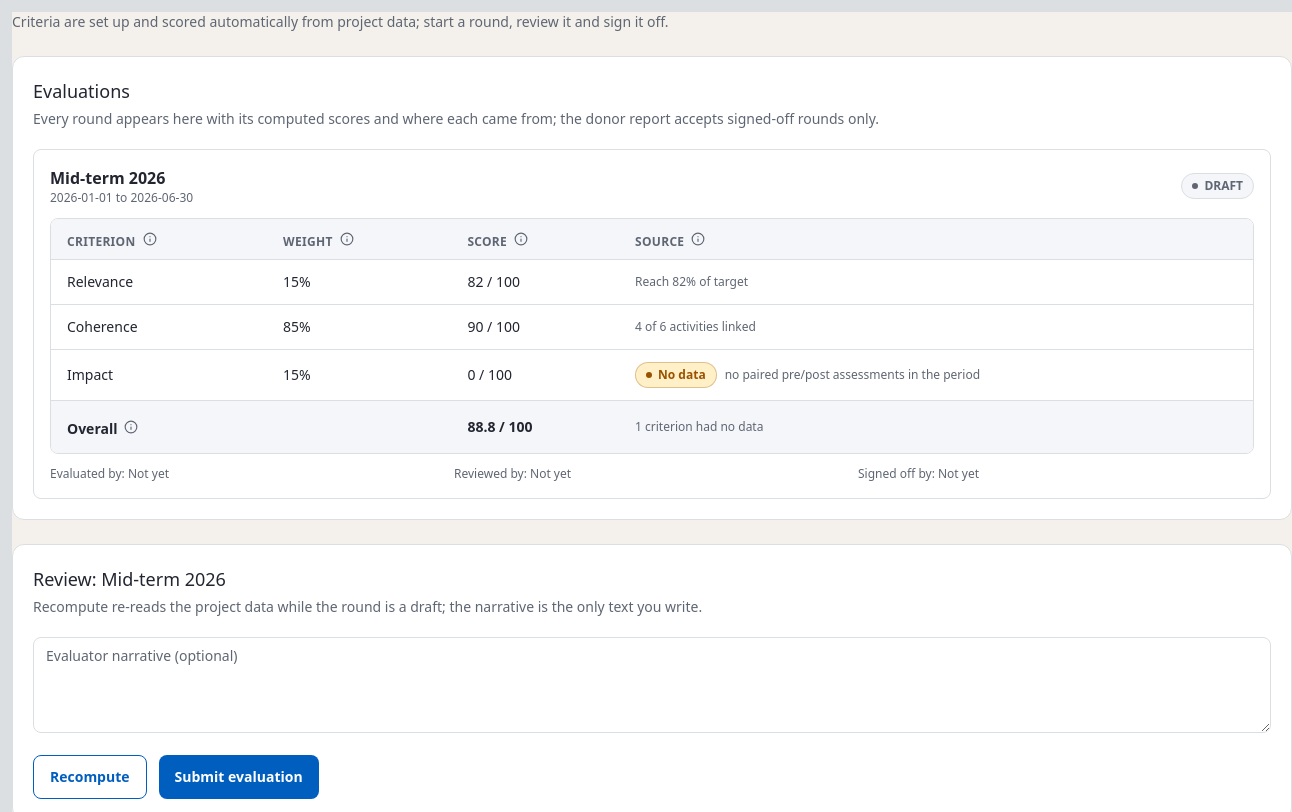
automatic evaluation workspace › keeps submit locked until the unsaved narrative is recomputed and saved
Check: the text "Recompute to save the narrative before submitting." is not shown
In the text box named "Evaluation narrative": x=652, y=684 33,636 -> 1271,732, type "Notes"
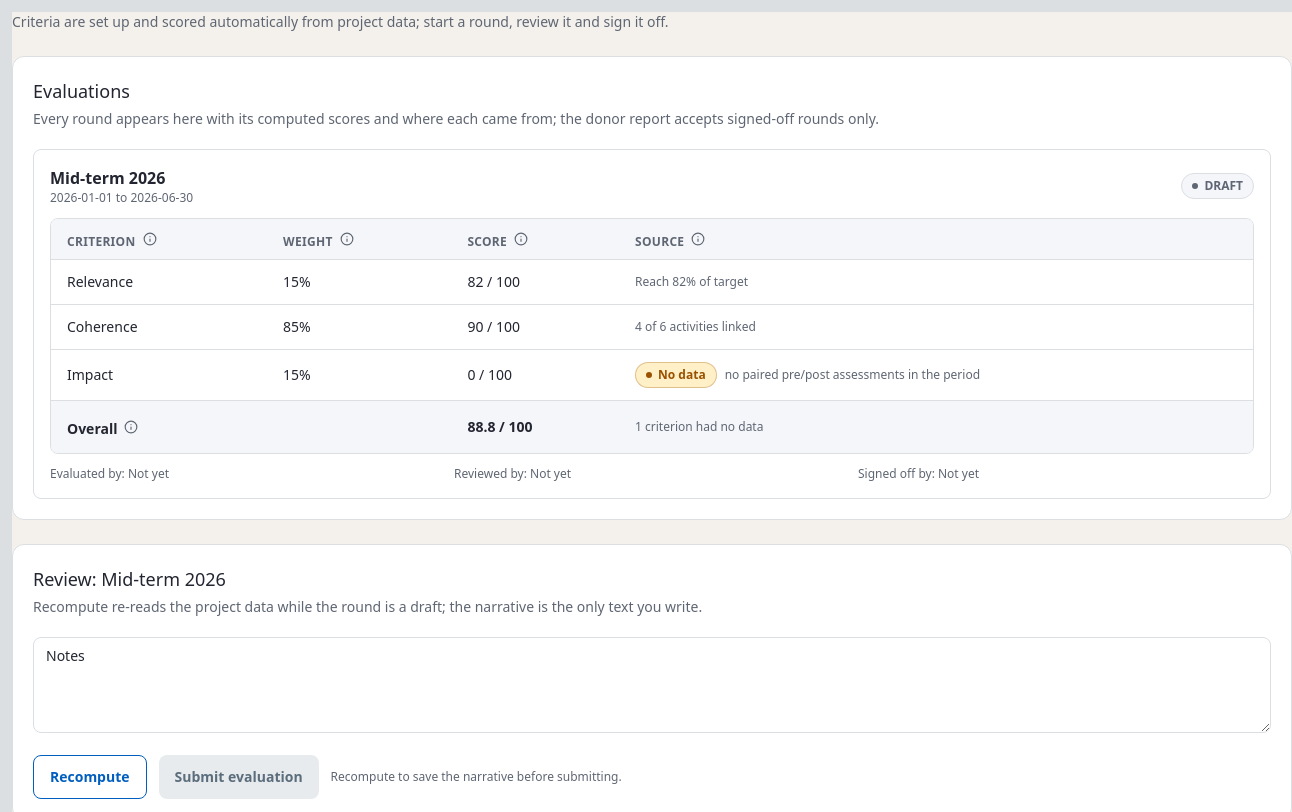
Check: the text "Recompute to save the narrative before submitting." is shown, box 331,768 -> 622,784
Click the button "Recompute": x=90, y=776 33,754 -> 146,798
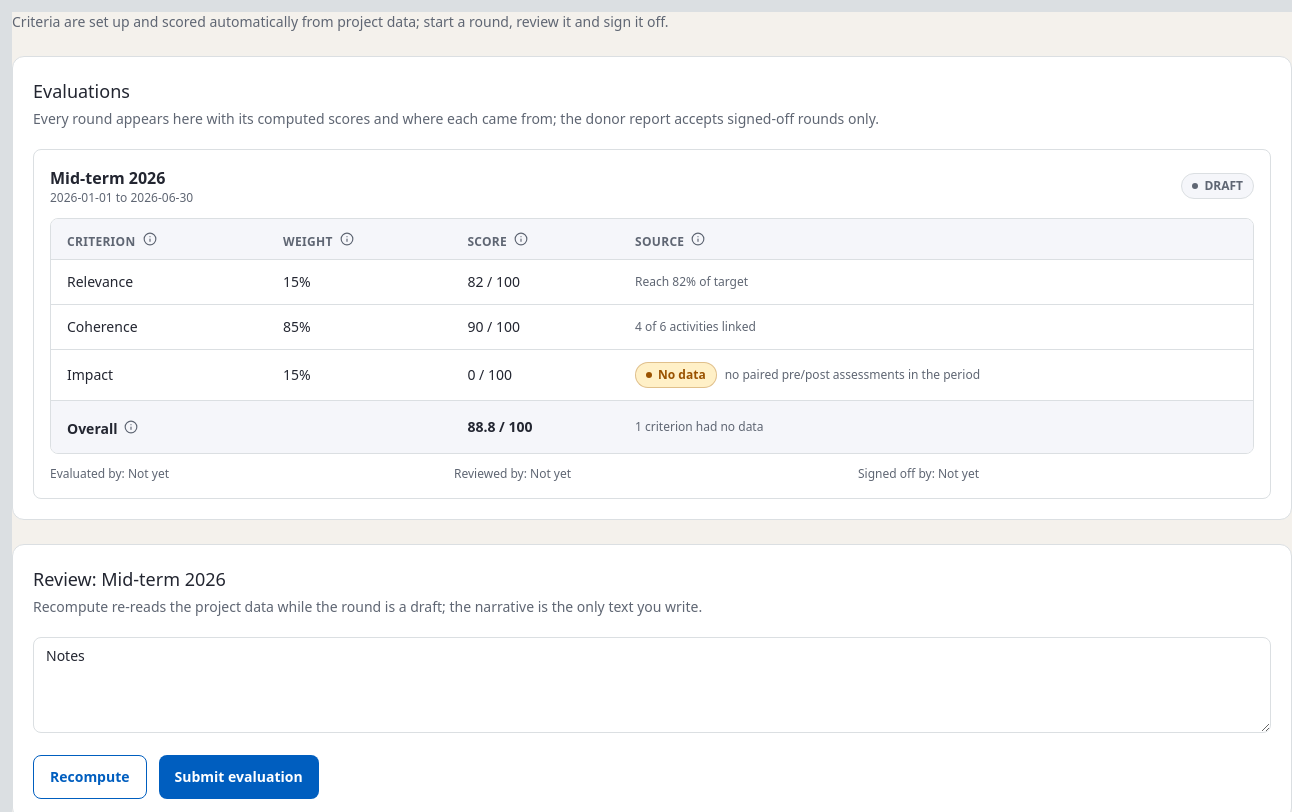
Check: the text "Recompute to save the narrative before submitting." is gone
Check: the button "Submit evaluation" is enabled, box 158,754 -> 319,798
